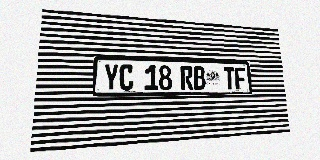1: (145, 65, 158, 90)
8: (159, 65, 172, 90)
B: (193, 66, 206, 90)
C: (119, 64, 134, 91)
F: (234, 67, 247, 90)
R: (180, 66, 194, 90)
T: (223, 67, 236, 90)
Y: (103, 64, 119, 91)
